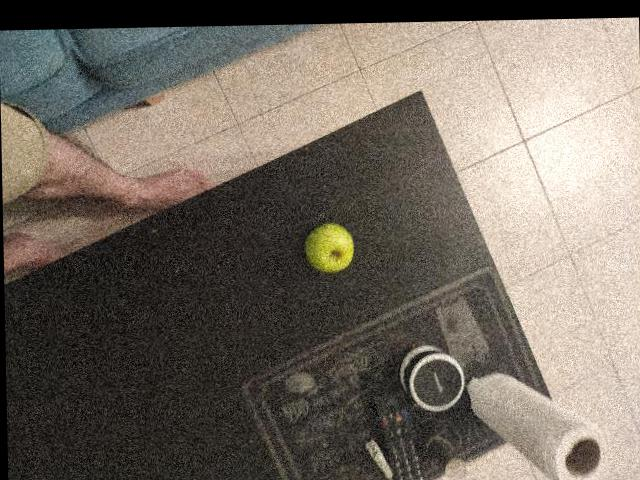apple: (389, 159, 444, 213)
